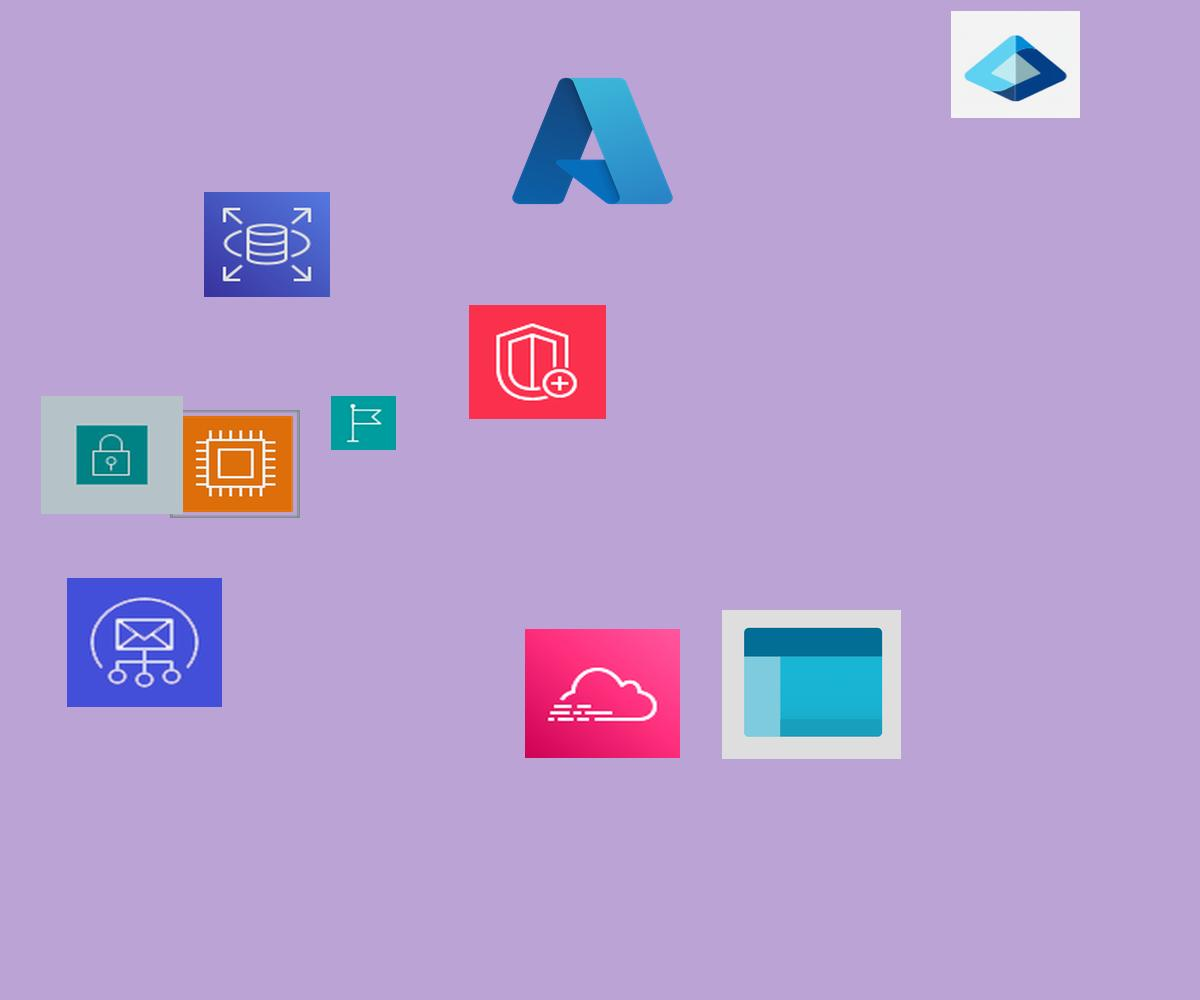AWS-Category_Compute: (170, 410, 300, 518)
AWS-CloudTrail: (525, 629, 680, 758)
AWS-Private-subnet: (41, 396, 183, 514)
AWS-RDS: (204, 192, 330, 297)
AWS-Region: (331, 396, 396, 450)
AWS-Shield: (469, 305, 606, 419)
AWS-Simple-Email-Service: (67, 578, 222, 707)
Azure_management-portal: (722, 610, 901, 759)
Azure_microsoft_entra: (951, 11, 1080, 118)
Azure_services: (505, 68, 680, 214)
